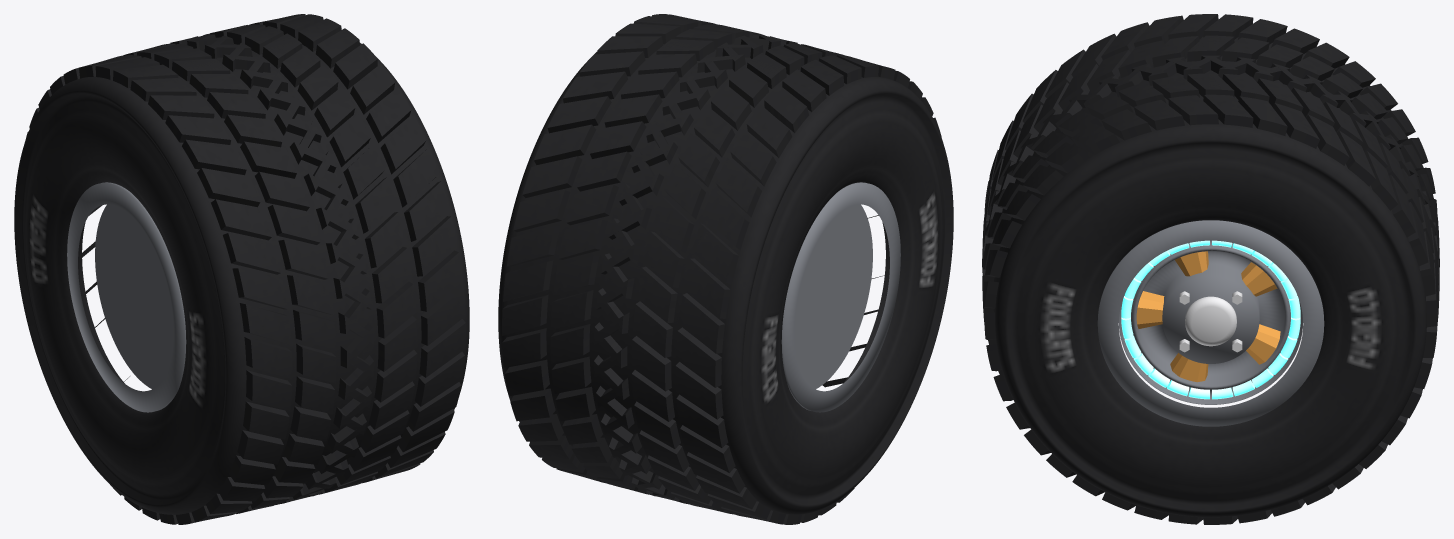
The model's file is tyre-led.glb.
3 views of the same model, side by side, from view 1: azimuth 30°, elevation 25°; view 2: azimuth 150°, elevation 25°; view 3: azimuth 270°, elevation 25° (orthographic). The views are drawn at different scales.
Parts seen in each view (by area): view 1: Tyre_Rubber, Rim; view 2: Tyre_Rubber, Rim; view 3: Tyre_Rubber, Rim, LED_Strip, Rim_Spokes, Hub_Cap.
Boxes of the visible parts, x1,y1,x2,y2 form: Tyre_Rubber: [14, 14, 469, 524]; Rim: [67, 182, 186, 412]; Tyre_Rubber: [498, 14, 953, 524]; Rim: [781, 182, 900, 412]; Tyre_Rubber: [982, 14, 1439, 524]; Rim: [1097, 220, 1324, 426]; LED_Strip: [1121, 240, 1300, 399]; Rim_Spokes: [1136, 251, 1280, 382]; Hub_Cap: [1185, 296, 1236, 346].
Bounding box in the file's own units: 0.172 × 0.2829 × 0.2829.
5 materials, 1 textured.
